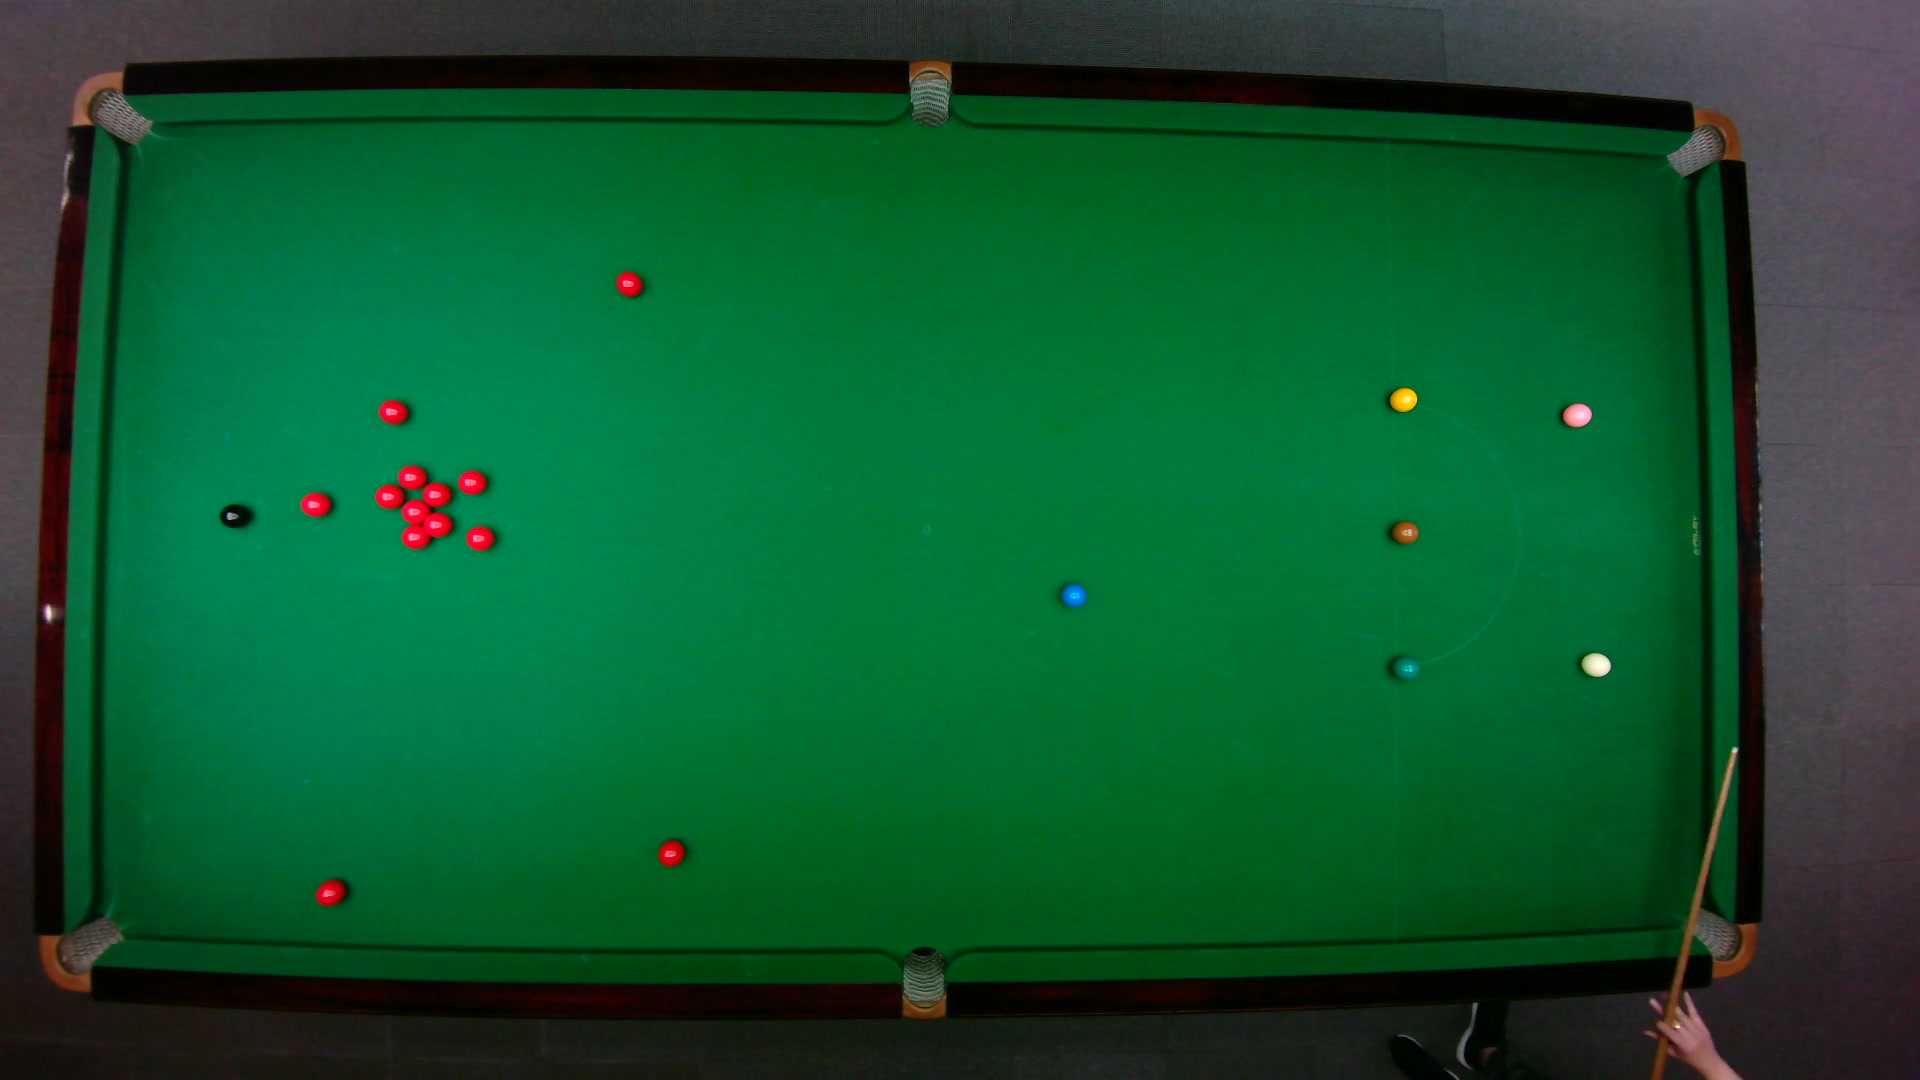bag: (37, 914, 125, 993), (1669, 905, 1758, 978), (69, 69, 152, 145), (1663, 107, 1742, 177), (901, 944, 944, 1021), (909, 57, 949, 128)
black: (218, 502, 249, 529)
blue: (1059, 582, 1087, 608)
brown: (1389, 520, 1419, 545)
cue: (1644, 745, 1743, 1080)
green: (1390, 654, 1419, 680)
pink: (1560, 401, 1593, 429)
red: (314, 877, 347, 907), (396, 462, 429, 491), (298, 491, 332, 517), (464, 524, 496, 551), (419, 480, 452, 506), (372, 483, 406, 508), (655, 837, 684, 866), (422, 510, 452, 538), (615, 269, 644, 297), (377, 398, 407, 425), (456, 468, 487, 495), (400, 524, 430, 550), (400, 497, 429, 524)
white: (1578, 650, 1611, 676)
yellow: (1387, 385, 1418, 411)
zone: (1390, 401, 1520, 667)
